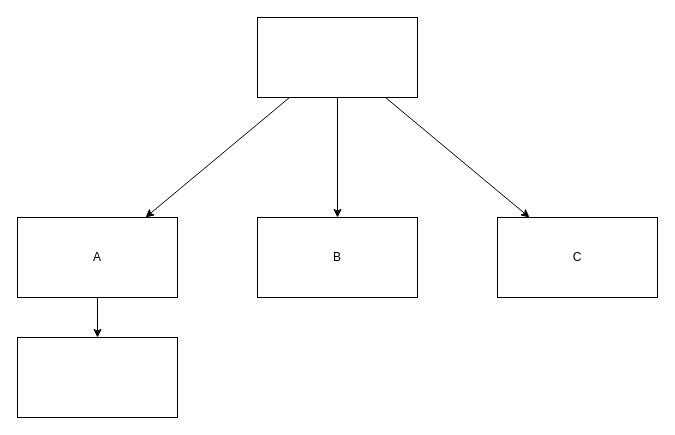
This 675x435 diagram has some shape labels left out. Each missing label, with the box of its shape:
AA: (16, 336, 178, 418)
VIRTUAL-DOM: (256, 16, 418, 98)
